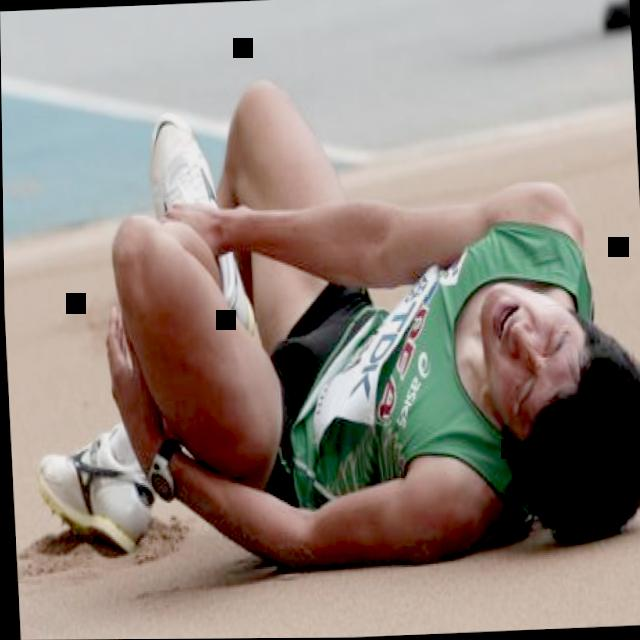Fall-Detected: (8, 17, 640, 610)
